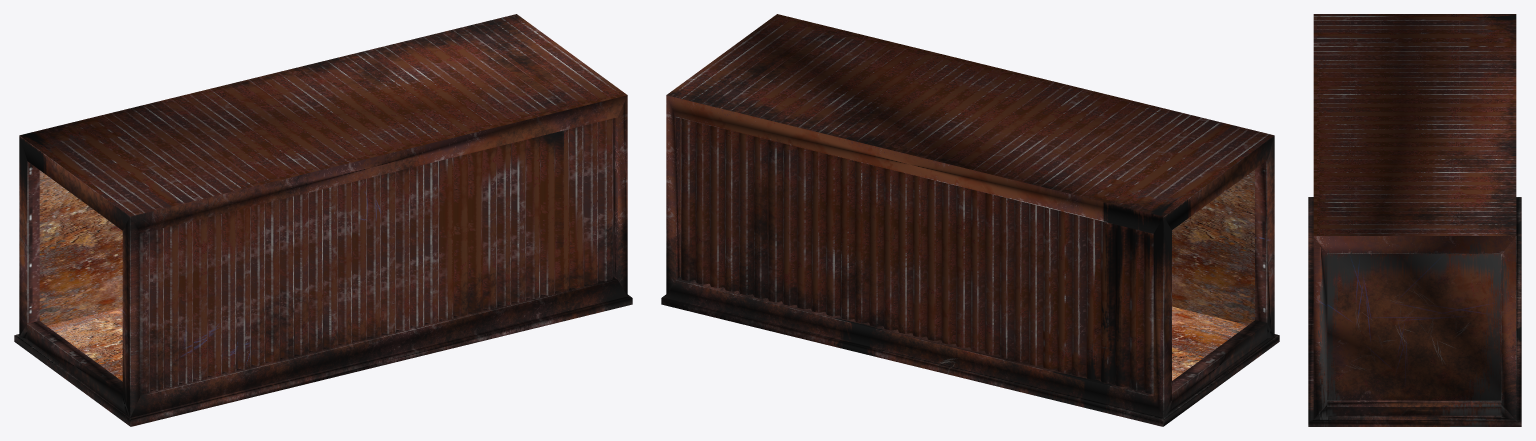
Rendered from cargo-container.fbx.
3 renders of one model, left to right at view 1: azimuth 30°, elevation 25°; view 2: azimuth 150°, elevation 25°; view 3: azimuth 270°, elevation 25°, orthographic. The views are drawn at different scales.
Visible parts, largest first — view 1: container, inner; view 2: container, inner; view 3: container.
Boxes of the visible parts, x1=… form: container: x1=14, y1=14, x2=632, y2=426; inner: x1=39, y1=170, x2=122, y2=381; container: x1=661, y1=14, x2=1279, y2=426; inner: x1=680, y1=118, x2=1254, y2=380; container: x1=1308, y1=14, x2=1521, y2=426.
Bounding box in the file's own units: 783 × 310 × 315.
2 materials, 2 textured.
